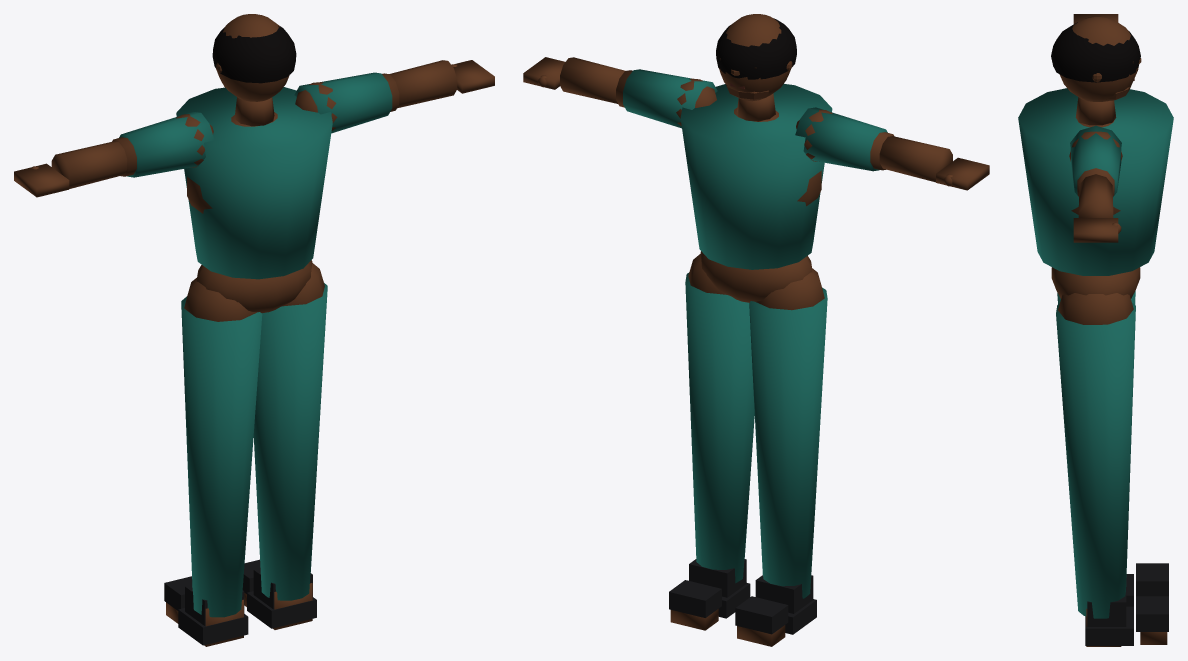
The model's file is Chidi.obj.
3 views of the same model, side by side, from view 1: azimuth 30°, elevation 25°; view 2: azimuth 150°, elevation 25°; view 3: azimuth 270°, elevation 25° (orthographic). The views are drawn at different scales.
Visible parts, largest first — view 1: Chidi, Chidi_body, Chidi_shoes, Chidi_hair; view 2: Chidi, Chidi_body, Chidi_shoes, Chidi_hair; view 3: Chidi, Chidi_body, Chidi_shoes, Chidi_hair.
Boxes of the visible parts, x1,y1,x2,y2 form: Chidi: (119, 72, 392, 617); Chidi_body: (14, 14, 494, 646); Chidi_shoes: (164, 559, 316, 645); Chidi_hair: (212, 26, 296, 83); Chidi: (623, 69, 887, 598); Chidi_body: (523, 14, 989, 646); Chidi_shoes: (669, 559, 816, 634); Chidi_hair: (716, 18, 796, 79); Chidi: (1018, 88, 1173, 618); Chidi_body: (1051, 14, 1167, 646); Chidi_shoes: (1085, 563, 1168, 645); Chidi_hair: (1051, 22, 1140, 82).
Size of the model in its own units: 1.34 by 1.71 by 0.4.
